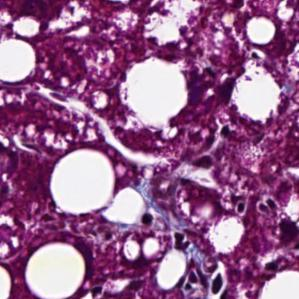inflammation: (190, 124, 234, 170), (204, 263, 227, 299), (255, 191, 280, 219), (168, 228, 194, 254)
